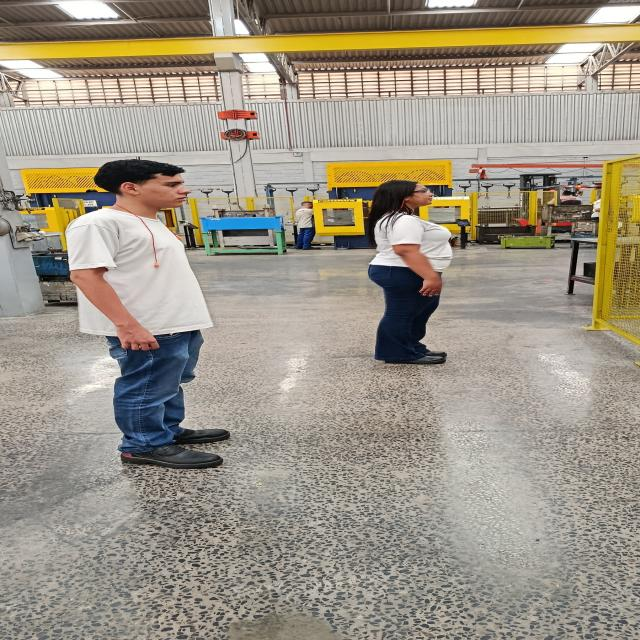oculos-epi: (413, 189, 430, 195)
sem_oculos: (105, 177, 201, 191)
